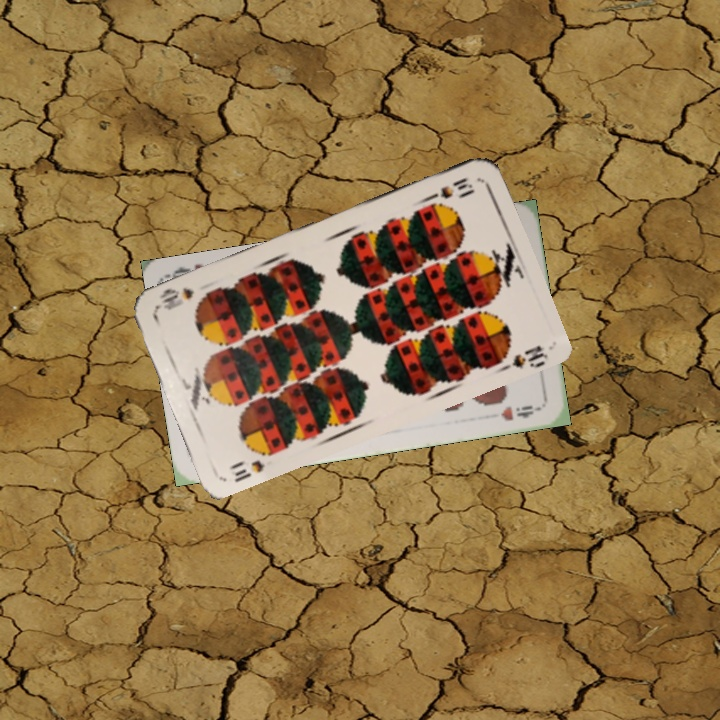S10: (423, 173, 477, 204), (230, 455, 268, 485)
